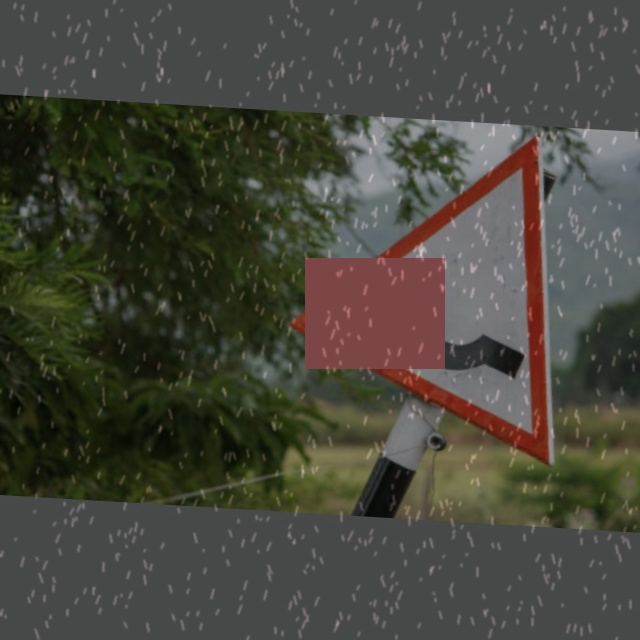Dangerous_Dip: (280, 125, 580, 449)
